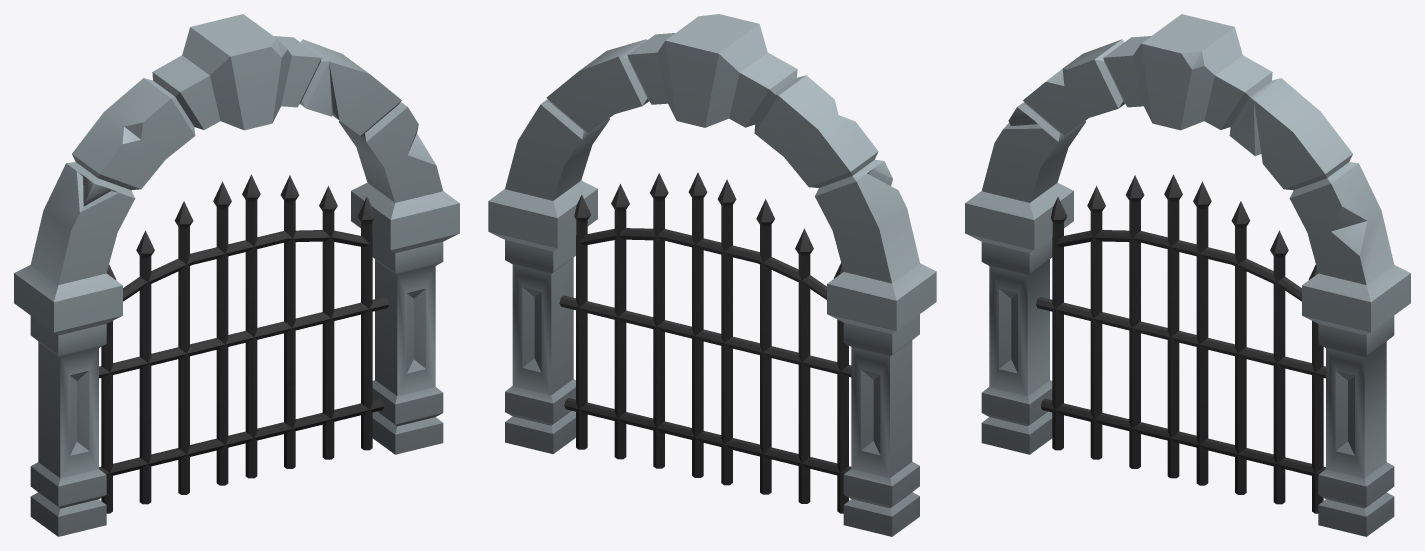
File: arch_gate.glb
3 views of the same model, side by side, from view 1: azimuth 30°, elevation 25°; view 2: azimuth 150°, elevation 25°; view 3: azimuth 330°, elevation 25° (orthographic).
Visible parts, largest first — view 1: arch_gate, arch_gate_left, arch_gate_right; view 2: arch_gate, arch_gate_left, arch_gate_right; view 3: arch_gate, arch_gate_right, arch_gate_left.
Boxes of the visible parts, x1,y1,x2,y2 form: arch_gate: (14, 14, 459, 536); arch_gate_left: (236, 174, 388, 478); arch_gate_right: (99, 181, 239, 513); arch_gate: (488, 14, 936, 536); arch_gate_left: (559, 172, 713, 477); arch_gate_right: (709, 179, 851, 513); arch_gate: (965, 14, 1410, 536); arch_gate_right: (1036, 174, 1188, 478); arch_gate_left: (1185, 181, 1325, 513).
Bounding box in the file's own units: 4.22 × 4.41 × 0.7699.
Materials: 1 (1 with a texture image).
